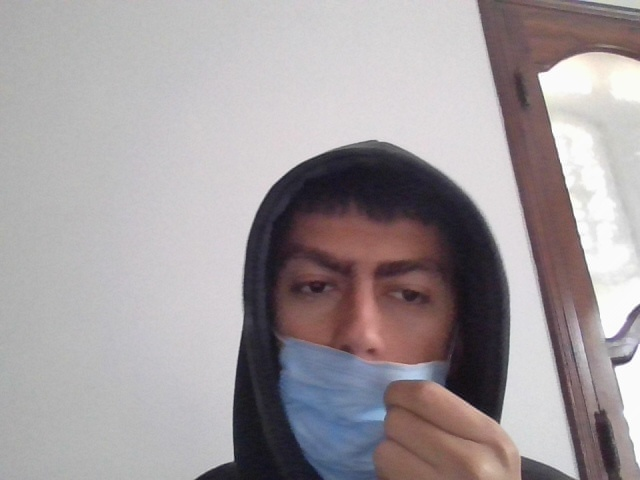mask_weared_incorrect: (256, 182, 479, 476)
